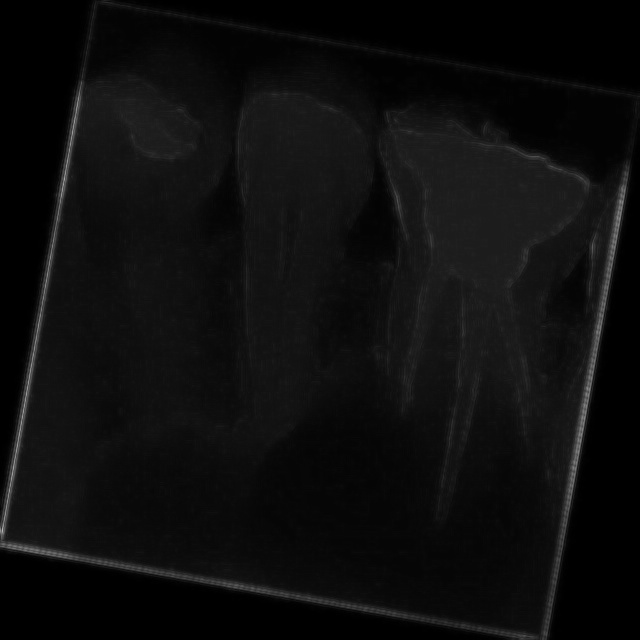Class 0- No endodontic treatment: (290, 81, 633, 563)
Class 2- incomplete endodontic treatment: (17, 18, 306, 484)
